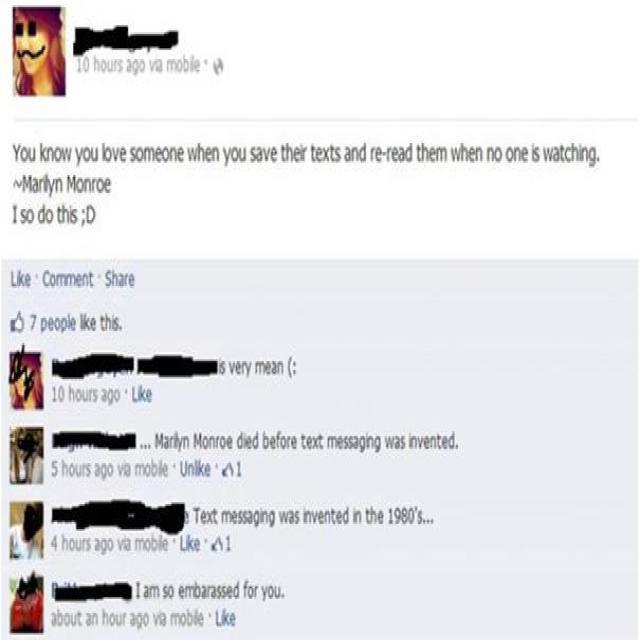0: (50, 534, 59, 552)
1: (50, 460, 59, 478)
3: (30, 314, 38, 330)
4: (401, 507, 408, 525)
5: (394, 507, 402, 525)
A: (344, 146, 352, 162), (270, 361, 278, 376), (394, 435, 402, 450), (246, 510, 254, 525), (255, 146, 262, 163), (398, 146, 405, 163), (553, 146, 560, 162), (32, 177, 39, 193), (94, 537, 101, 552), (143, 584, 150, 599), (85, 612, 92, 627), (94, 464, 101, 478), (158, 58, 164, 74), (125, 538, 132, 551), (353, 435, 359, 450), (288, 510, 294, 525), (51, 612, 57, 627), (161, 613, 167, 628), (118, 274, 125, 286), (100, 388, 106, 402), (125, 464, 132, 476), (126, 59, 132, 72), (130, 613, 136, 626), (211, 585, 216, 598), (164, 436, 168, 449), (202, 585, 206, 598)
B: (262, 431, 270, 449), (150, 534, 158, 552), (194, 581, 202, 599), (57, 608, 64, 626), (183, 54, 189, 72), (151, 458, 157, 476), (187, 608, 193, 626)
C: (42, 270, 50, 288), (564, 146, 572, 162)
D: (86, 204, 95, 224), (359, 141, 367, 163), (405, 143, 413, 163), (38, 204, 46, 224), (236, 431, 243, 449), (448, 431, 455, 449), (252, 432, 259, 449), (343, 506, 349, 524), (234, 582, 239, 598)
E: (542, 146, 554, 162), (450, 147, 460, 162), (278, 510, 288, 525), (520, 146, 528, 163), (384, 436, 394, 449), (118, 146, 126, 162), (177, 146, 185, 162), (270, 146, 278, 162), (292, 146, 300, 162), (315, 146, 323, 162), (428, 146, 436, 162), (104, 177, 112, 193), (89, 317, 97, 332), (234, 361, 242, 376), (264, 361, 272, 376), (377, 509, 385, 524), (194, 58, 201, 74), (155, 146, 162, 162), (375, 146, 382, 162), (469, 146, 476, 162), (145, 388, 153, 402), (204, 462, 211, 478), (128, 273, 135, 288), (226, 435, 233, 450), (269, 435, 276, 450), (306, 435, 313, 450), (424, 435, 431, 450), (200, 509, 207, 524), (162, 537, 169, 552), (194, 538, 201, 553), (226, 585, 233, 600), (229, 612, 236, 627), (206, 146, 212, 162), (392, 146, 398, 162), (76, 272, 82, 288), (162, 462, 168, 478), (318, 508, 324, 524), (48, 317, 54, 332), (70, 316, 76, 331), (291, 435, 297, 450), (337, 435, 343, 450), (442, 435, 448, 450), (232, 509, 238, 524), (336, 509, 342, 524), (178, 584, 184, 599), (198, 612, 204, 627), (246, 436, 252, 449), (26, 273, 30, 288)
F: (276, 431, 282, 449), (244, 580, 248, 598)
G: (588, 146, 596, 166), (358, 435, 366, 453), (268, 511, 276, 528), (132, 59, 139, 77), (374, 435, 381, 453), (253, 510, 260, 528), (100, 463, 106, 481), (136, 613, 142, 631), (108, 389, 114, 405), (100, 538, 106, 554)
H: (286, 142, 294, 162), (61, 205, 70, 222), (422, 142, 429, 162), (461, 143, 468, 161), (68, 384, 75, 402), (370, 506, 377, 524), (102, 608, 109, 626), (105, 314, 112, 330), (198, 143, 204, 161), (572, 142, 578, 160), (94, 56, 100, 72), (112, 269, 118, 285), (62, 460, 68, 476), (62, 534, 68, 550)
I: (578, 143, 582, 161), (136, 581, 140, 599), (13, 205, 17, 222), (173, 432, 176, 448), (185, 534, 188, 550), (193, 610, 196, 626), (155, 58, 158, 72), (300, 143, 302, 161), (532, 143, 534, 161), (44, 174, 46, 192), (82, 313, 84, 331), (138, 384, 140, 402), (409, 431, 411, 449), (304, 506, 306, 524), (70, 206, 72, 223), (17, 271, 19, 287), (112, 314, 114, 330), (219, 358, 221, 374), (244, 432, 246, 448), (366, 432, 368, 448), (260, 507, 262, 523), (353, 507, 355, 523), (158, 534, 160, 550), (158, 610, 160, 626), (222, 610, 224, 626), (190, 56, 192, 71), (158, 461, 160, 476), (197, 461, 199, 476), (124, 534, 125, 549), (124, 462, 125, 477)
K: (40, 142, 47, 162), (140, 384, 146, 402), (198, 458, 204, 476), (188, 534, 194, 552), (84, 314, 90, 330), (224, 608, 229, 626), (20, 271, 24, 287)
L: (180, 536, 187, 552), (11, 271, 17, 287), (132, 386, 138, 402), (216, 608, 221, 626), (175, 432, 178, 448), (194, 460, 197, 476), (46, 172, 48, 192), (102, 143, 104, 161), (80, 313, 82, 331), (192, 56, 194, 72), (68, 313, 70, 329), (160, 460, 162, 476), (160, 534, 162, 550), (196, 610, 198, 626)
M: (143, 146, 155, 161), (22, 174, 32, 192), (436, 146, 447, 161), (166, 58, 176, 74), (66, 272, 76, 288), (134, 462, 144, 478), (154, 432, 164, 448), (134, 537, 144, 552), (67, 176, 76, 192), (254, 361, 265, 374), (194, 432, 202, 449), (327, 436, 337, 449), (222, 510, 232, 523), (150, 585, 160, 598), (185, 585, 195, 598), (170, 613, 180, 626), (57, 274, 66, 286)
N: (169, 146, 177, 162), (212, 146, 220, 162), (351, 146, 359, 162), (475, 146, 483, 162), (486, 146, 494, 162), (514, 146, 522, 162), (581, 146, 589, 162), (46, 146, 54, 161), (304, 509, 312, 524), (354, 509, 362, 524), (55, 178, 63, 192), (277, 360, 284, 375), (324, 509, 331, 524), (208, 436, 216, 449), (188, 462, 194, 478), (410, 435, 417, 448), (429, 436, 436, 449), (262, 509, 268, 524), (85, 178, 91, 192), (183, 436, 189, 449), (368, 435, 374, 448), (92, 613, 98, 626), (82, 274, 88, 286)
O: (160, 146, 170, 162), (96, 177, 105, 193), (54, 146, 62, 162), (82, 146, 90, 162), (104, 146, 112, 162), (136, 146, 144, 162), (231, 146, 239, 162), (494, 146, 502, 162), (506, 146, 514, 162), (76, 177, 84, 193), (26, 208, 34, 224), (45, 208, 53, 224), (68, 462, 76, 478), (144, 462, 152, 477), (142, 612, 150, 627), (139, 58, 146, 74), (21, 146, 28, 162), (49, 273, 56, 288), (54, 317, 61, 332), (219, 435, 226, 450), (280, 435, 287, 450), (144, 537, 151, 552), (247, 585, 254, 600), (180, 612, 187, 627), (68, 538, 76, 551), (100, 58, 106, 74), (76, 388, 82, 404), (114, 388, 120, 404), (108, 462, 114, 477), (108, 537, 114, 552), (168, 584, 174, 599), (268, 584, 274, 599), (64, 612, 70, 627), (109, 612, 115, 627), (177, 58, 182, 74), (202, 436, 208, 449)
P: (41, 317, 48, 333), (61, 317, 68, 333)
R: (387, 146, 392, 162), (303, 146, 307, 162), (371, 146, 375, 162), (92, 176, 96, 192), (242, 361, 246, 376), (40, 178, 44, 192), (89, 388, 93, 402), (207, 584, 211, 598), (114, 59, 118, 72), (216, 436, 220, 449), (287, 436, 291, 449), (82, 538, 86, 551), (254, 585, 258, 598), (122, 613, 126, 626), (82, 464, 86, 476), (170, 436, 173, 449), (125, 274, 128, 286)
S: (334, 146, 342, 162), (71, 208, 78, 224), (105, 270, 111, 288), (20, 208, 27, 223), (399, 435, 406, 450), (294, 510, 301, 525), (118, 58, 124, 74), (130, 146, 136, 162), (250, 146, 256, 162), (92, 388, 98, 404), (534, 146, 540, 162), (343, 435, 349, 450), (237, 509, 243, 524), (417, 509, 423, 524), (220, 362, 226, 375), (348, 435, 353, 450), (242, 509, 247, 524), (163, 584, 168, 599), (87, 462, 91, 478), (217, 584, 221, 599), (87, 538, 91, 551), (222, 586, 226, 599), (115, 316, 118, 331)
T: (193, 507, 201, 525), (212, 508, 219, 524), (280, 144, 286, 162), (416, 144, 422, 162), (559, 144, 565, 162), (88, 271, 94, 287), (300, 432, 306, 448), (318, 432, 324, 448), (330, 508, 336, 524), (364, 508, 370, 524), (436, 434, 442, 449), (76, 611, 82, 626), (311, 144, 315, 162), (330, 144, 334, 162), (57, 206, 61, 223), (100, 314, 104, 330)
U: (180, 461, 188, 478), (90, 146, 98, 162), (238, 147, 246, 162), (29, 147, 36, 162), (70, 612, 77, 627), (82, 388, 89, 402), (274, 585, 281, 598), (76, 464, 82, 478), (108, 59, 114, 72), (76, 538, 82, 551), (116, 613, 122, 626)
V: (262, 146, 270, 162), (112, 146, 120, 162), (310, 510, 318, 525), (148, 59, 156, 72), (416, 436, 424, 449), (116, 464, 124, 476), (228, 361, 234, 376), (153, 612, 159, 627), (118, 539, 124, 552)
W: (187, 147, 197, 162), (62, 147, 71, 162)
X: (322, 147, 330, 162), (313, 436, 319, 449), (207, 511, 212, 524)
Y: (74, 146, 84, 168), (222, 148, 232, 168), (12, 143, 20, 163), (48, 178, 56, 198), (261, 586, 268, 602), (246, 361, 252, 379), (177, 436, 183, 454)
